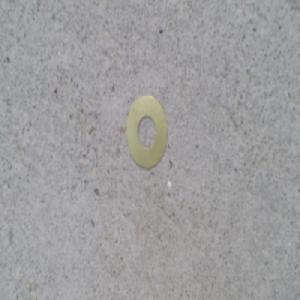Washer: (125, 100, 169, 174)
